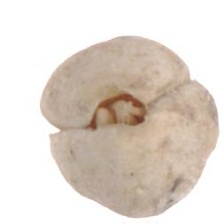L1: (83, 91, 151, 134)
L2: (39, 35, 220, 218)
